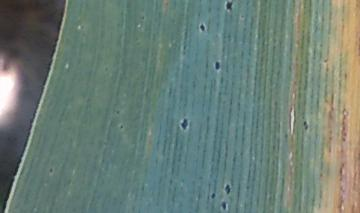tarspot: (179, 117, 189, 130), (223, 183, 232, 197), (213, 60, 222, 71), (302, 119, 310, 131), (47, 166, 56, 176), (225, 1, 233, 12), (220, 200, 228, 211), (199, 22, 206, 33), (209, 192, 217, 201), (138, 15, 147, 22), (282, 132, 288, 142), (114, 109, 121, 115), (103, 66, 109, 73), (119, 123, 124, 130)
